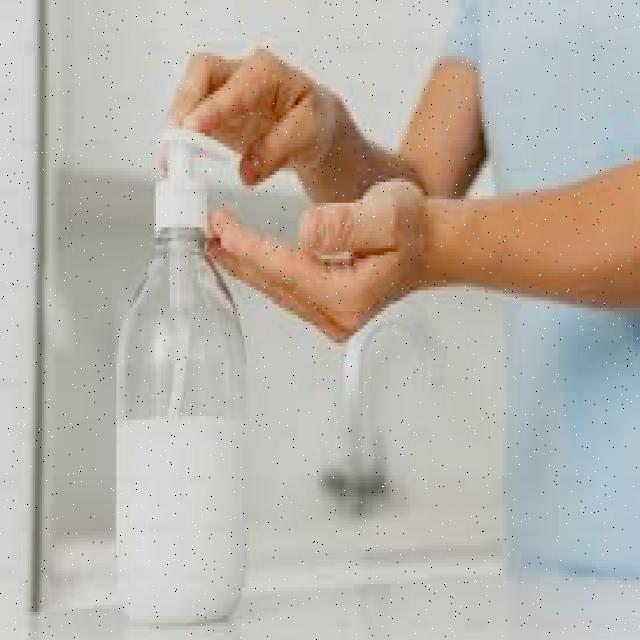liquid soap: (113, 114, 259, 636)
